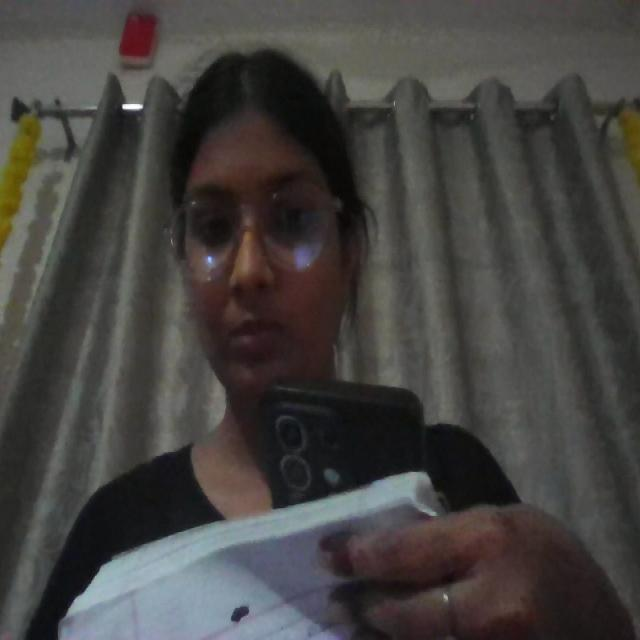phone: (260, 381, 425, 507)
